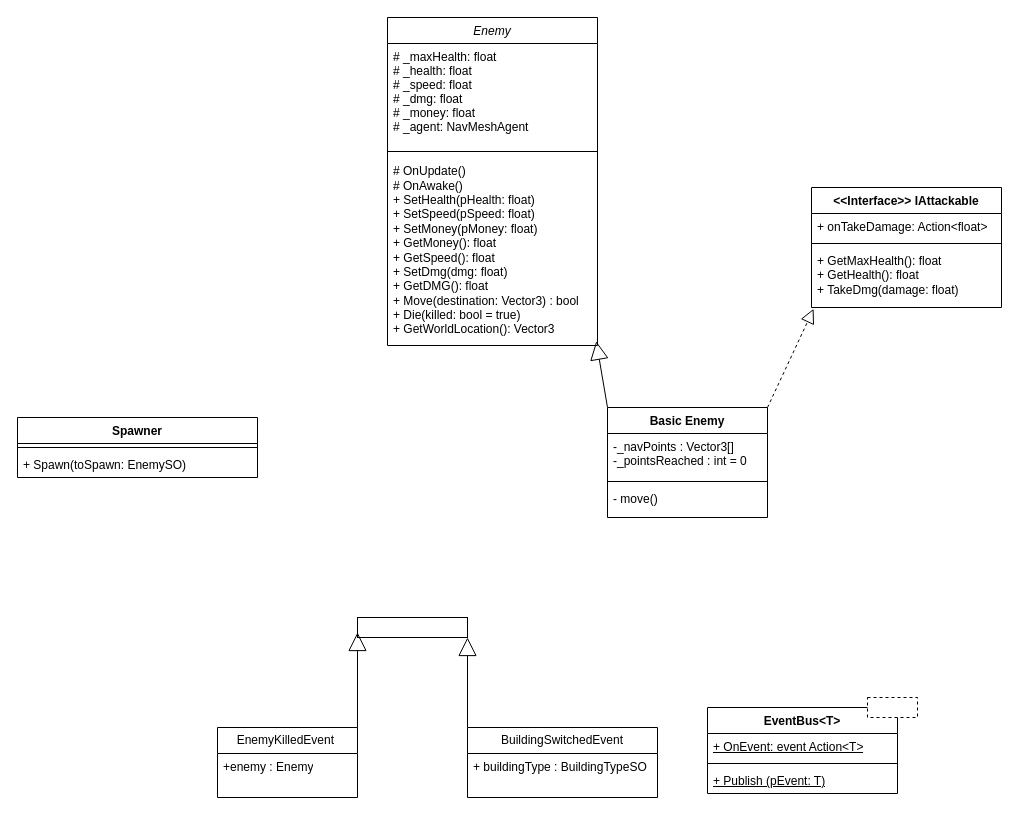
Some shapes in this 1019 by 818 pixel diagram are drawn without their labels. The centre of each missing label's shape, as x and y in pixels:
Event: the point at 412,627
T: Event: the point at 892,707
